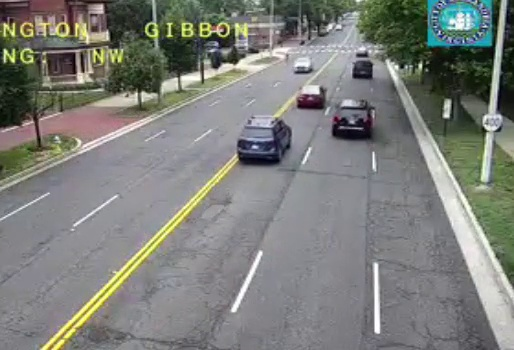car: (236, 116, 291, 159), (332, 98, 373, 133), (297, 86, 325, 108), (352, 61, 374, 79)
